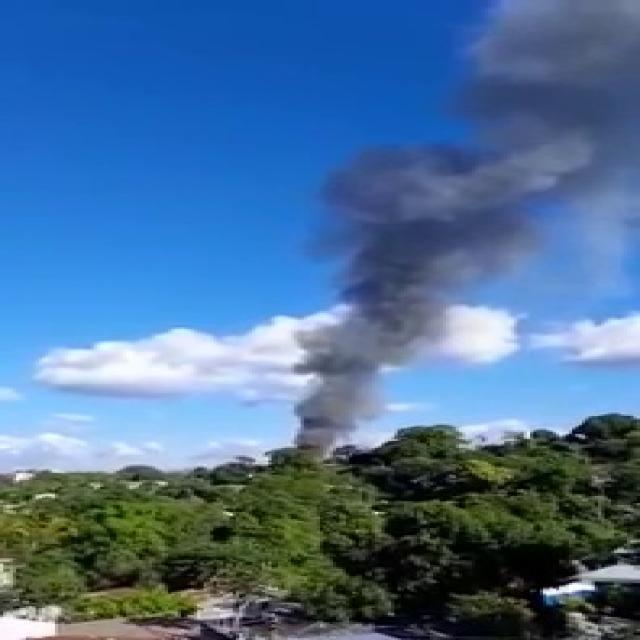Smoke: (280, 4, 627, 471)
